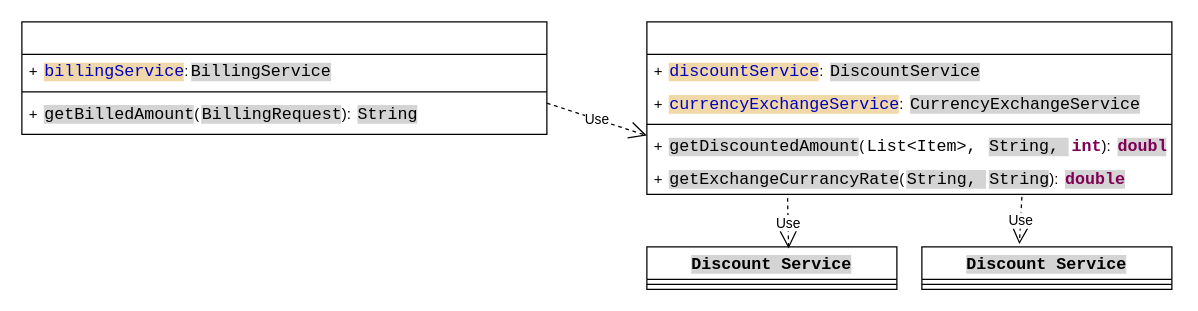
The diagram is 1198 pixels wide and 311 high, and some of its shapes have lost their labels. Here are the shapes that lost their labels. From the top down, the box of each, then its label:
(21, 21, 547, 134): BillingCountroller
(646, 21, 1172, 194): BillingService
